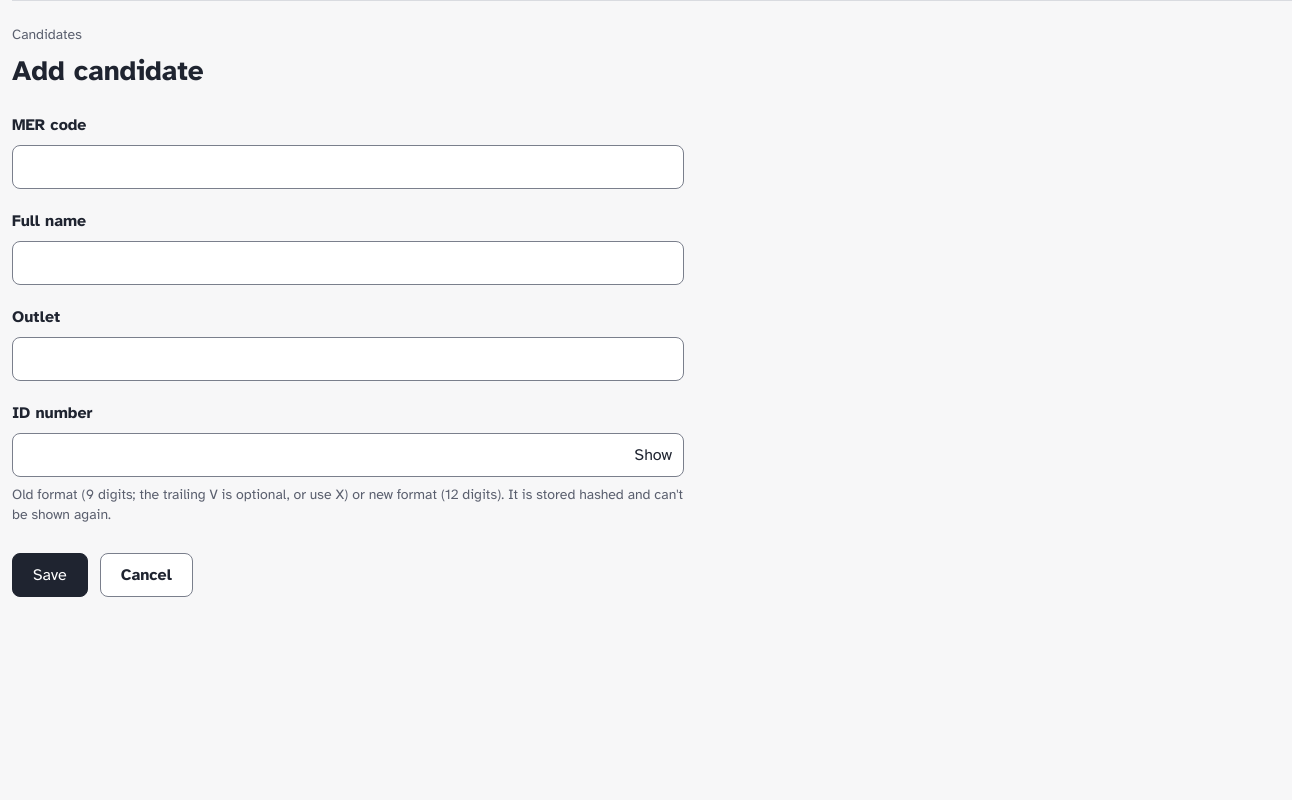
Test: CandidateForm › shows non-validation save failures as persistent toasts
Type "TEST-001" into the field labelled "MER code".
click(348, 167); type("TEST-001")  # box [12, 145, 684, 189]
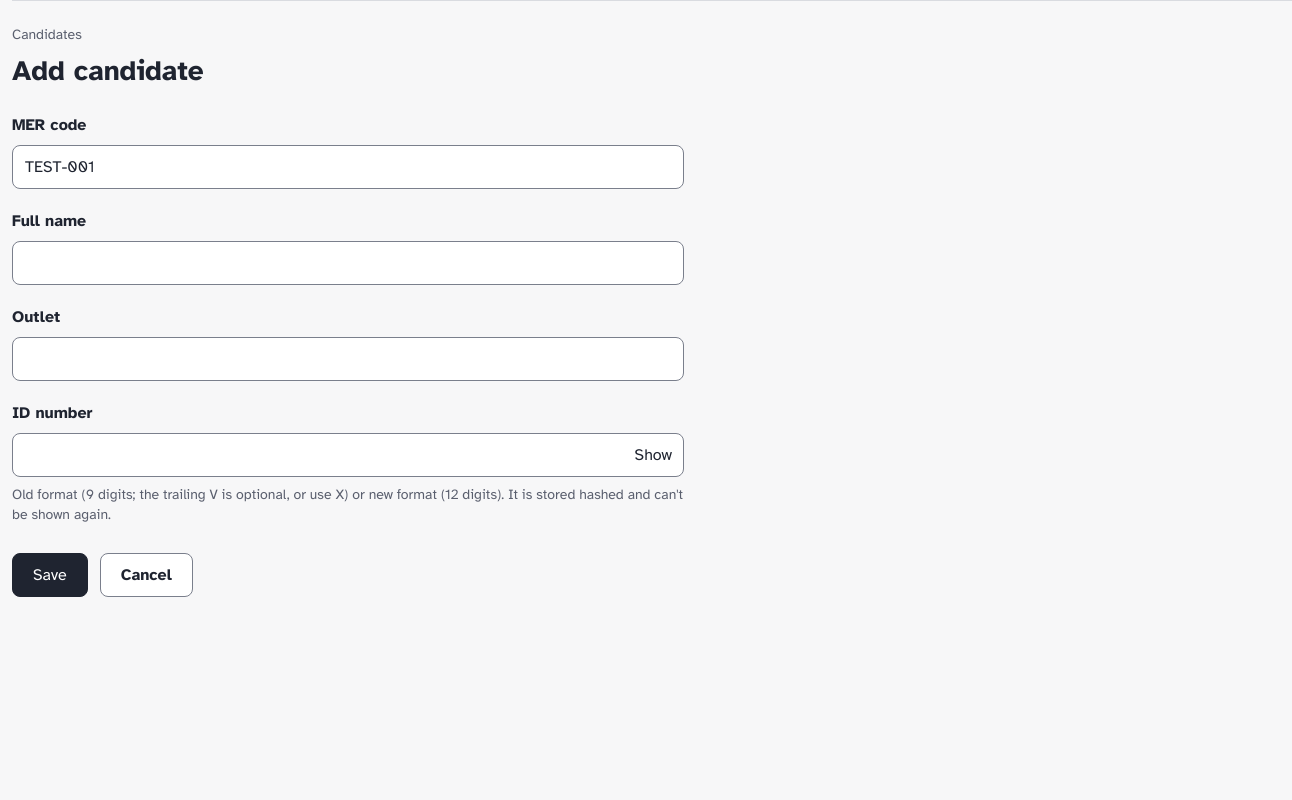
Type "Candidate" into the field labelled "Full name".
click(348, 263); type("Candidate")  # box [12, 241, 684, 285]
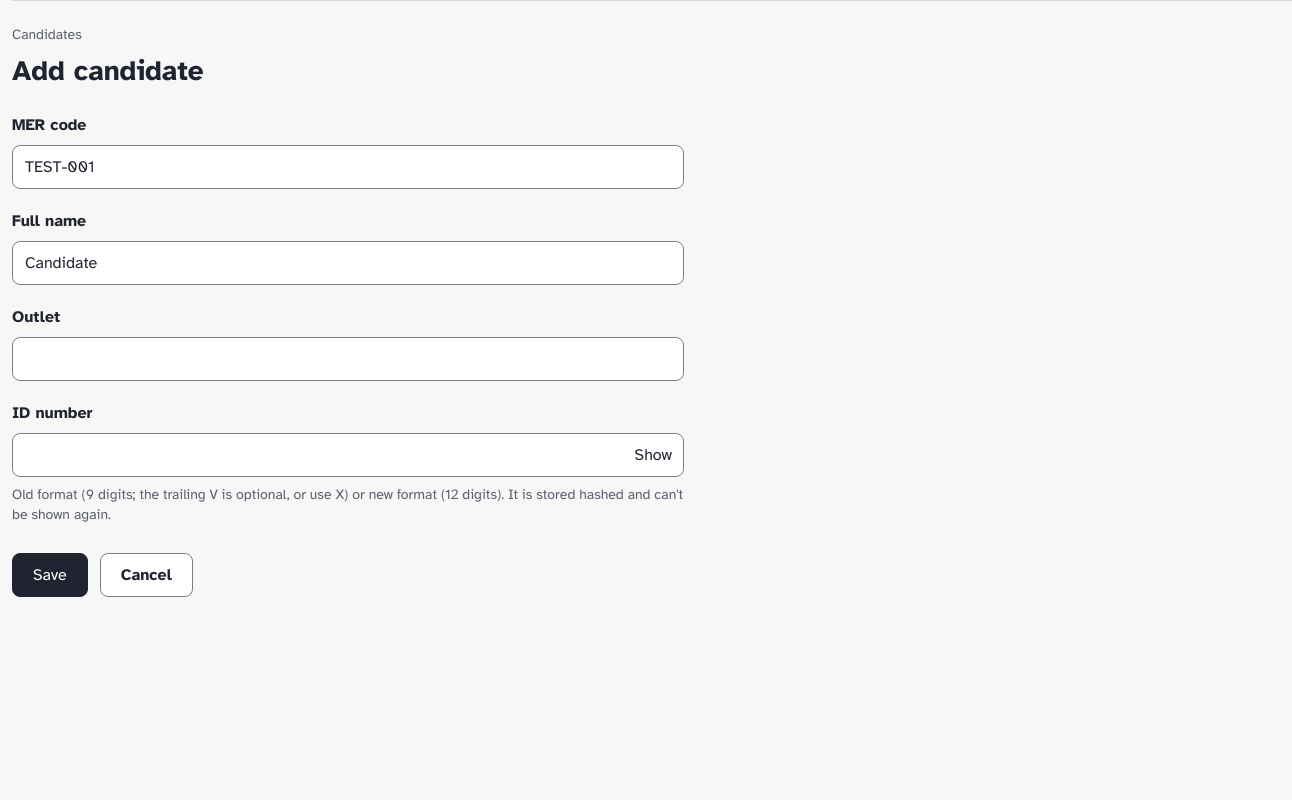
Type "123456789" into the password field labelled "ID number".
click(348, 455); type("123456789")  # box [12, 433, 684, 477]
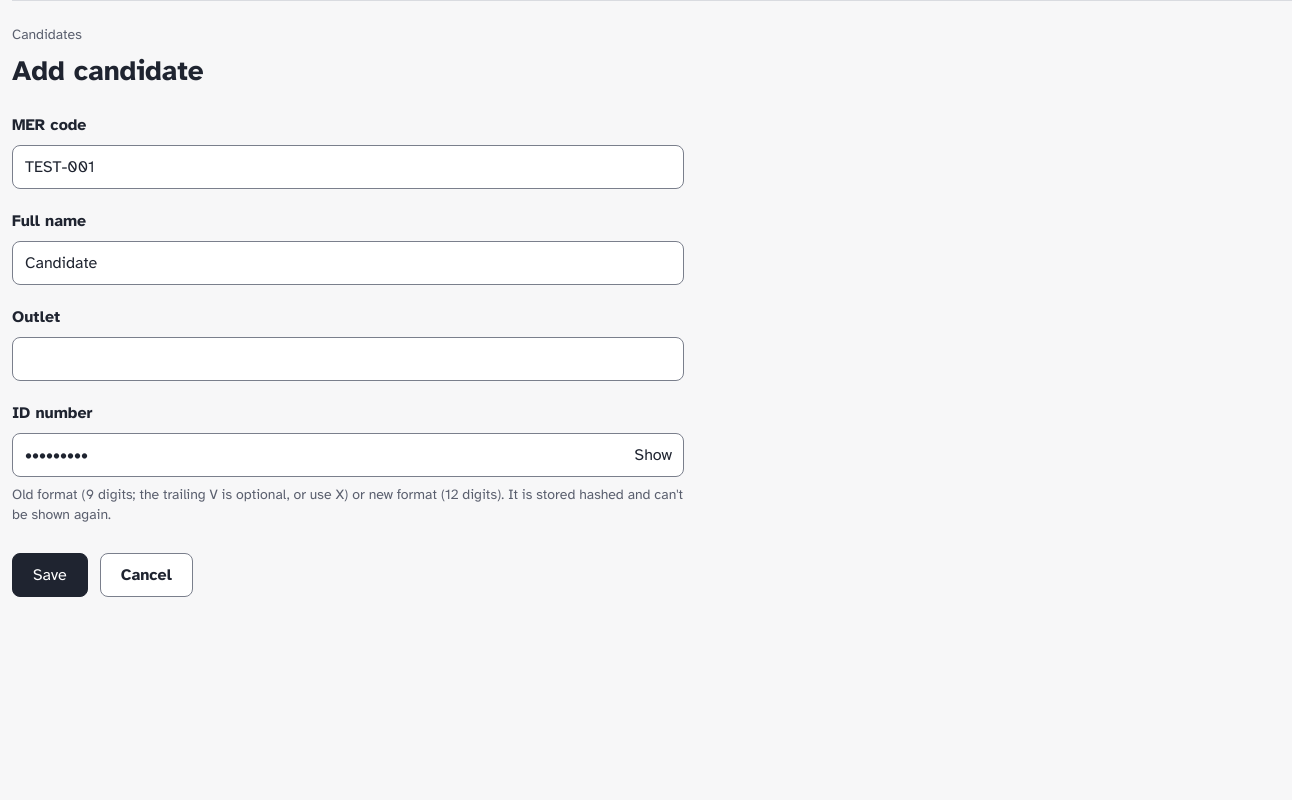
Click the button "Save".
click(50, 575)  # box [12, 553, 88, 597]
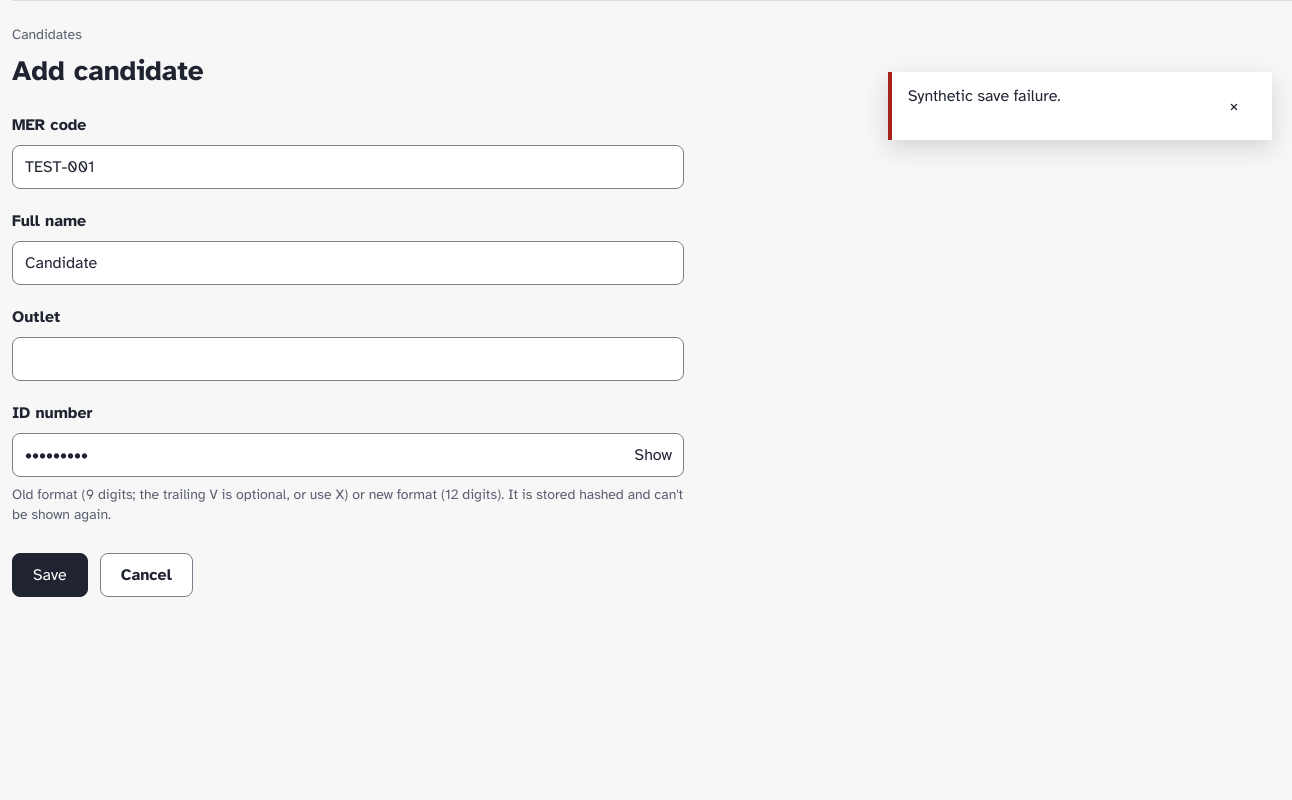
expect the text "Synthetic save failure." is shown: met, box [908, 84, 1061, 108]
